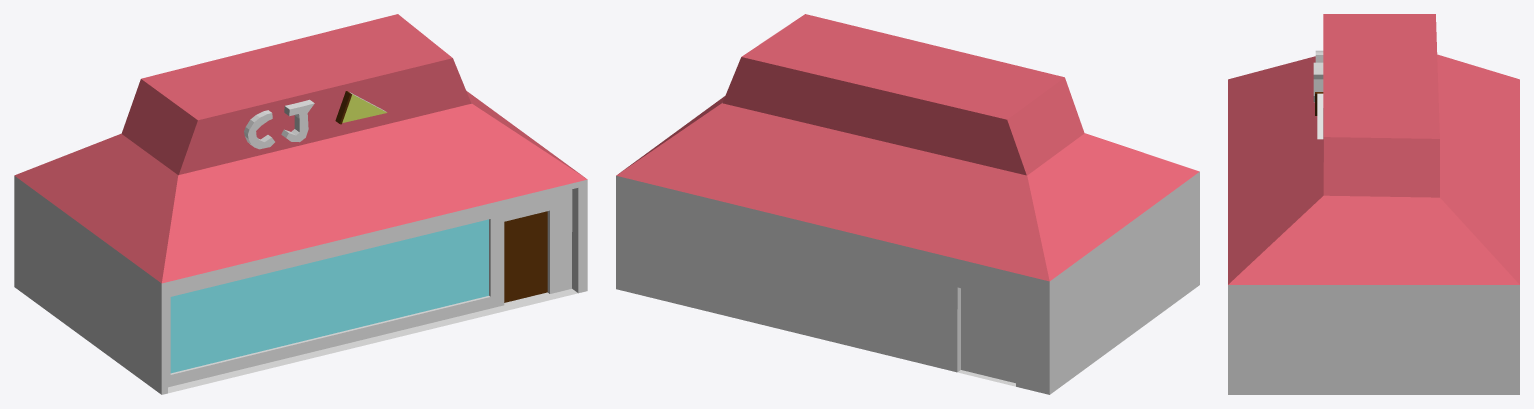
The model's file is PizzaPlaceStart.fbx.
3 views of the same model, side by side, from view 1: azimuth 30°, elevation 25°; view 2: azimuth 150°, elevation 25°; view 3: azimuth 270°, elevation 25° (orthographic). The views are drawn at different scales.
Parts seen in each view (by area): view 1: Cube; view 2: Cube; view 3: Cube.
Part boxes in pixels (x1,y1,x2,y2): Cube: [14, 14, 587, 394]; Cube: [616, 14, 1199, 394]; Cube: [1228, 14, 1519, 394].
Bounding box in the file's own units: 4000 × 1962 × 2400.
